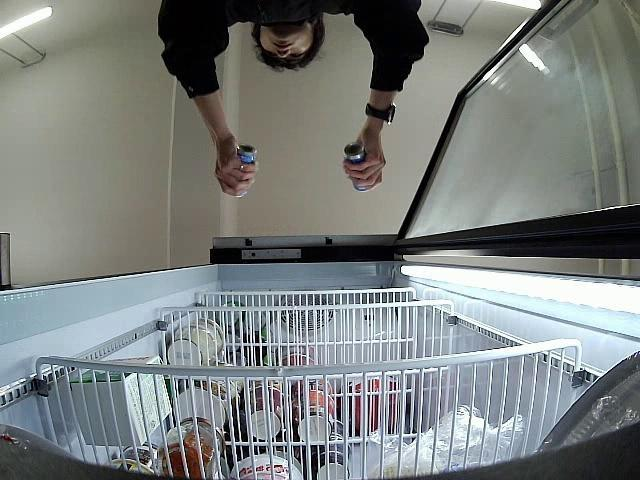15_letsbe: (343, 142, 369, 191), (235, 143, 258, 163)
